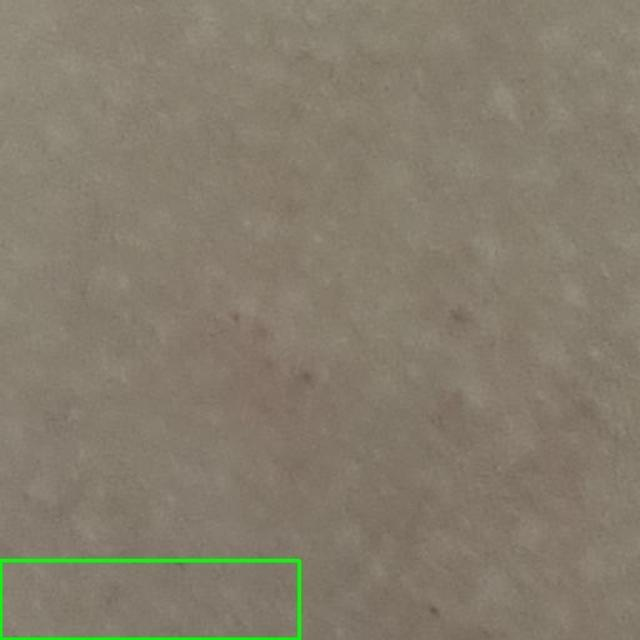Atopic Dermatitis: (0, 560, 299, 639)
